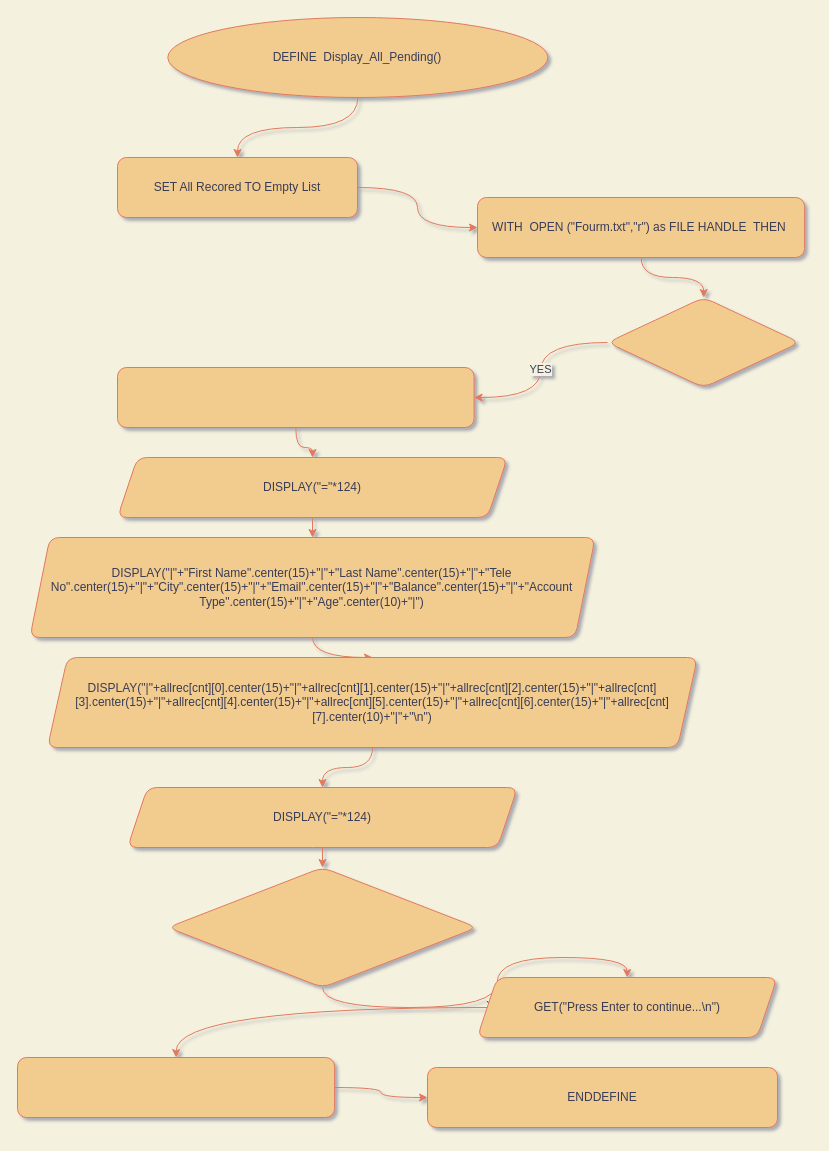
This 829x1151 diagram has some shape labels left out. Here are the shapes that lost their labels. From the top down, the centre of each, then its label:
(x=703, y=342): LOOP line IN FILE HANDLE
(x=295, y=397): allrec APPEND(line.strip().split(";"))
(x=322, y=927): LOOP cnt IN RANGE(0,LENGTH(allrec))
(x=175, y=1087): ENDLOOP
